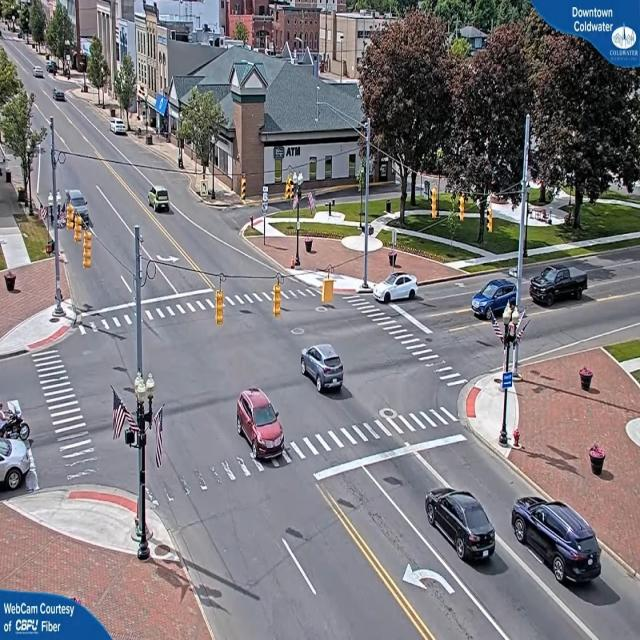car: (511, 495, 602, 587), (427, 489, 498, 566), (236, 388, 287, 465), (530, 266, 588, 307), (300, 344, 345, 396), (0, 433, 36, 495), (472, 279, 517, 319), (375, 271, 420, 303), (149, 186, 172, 213), (112, 120, 128, 136)
